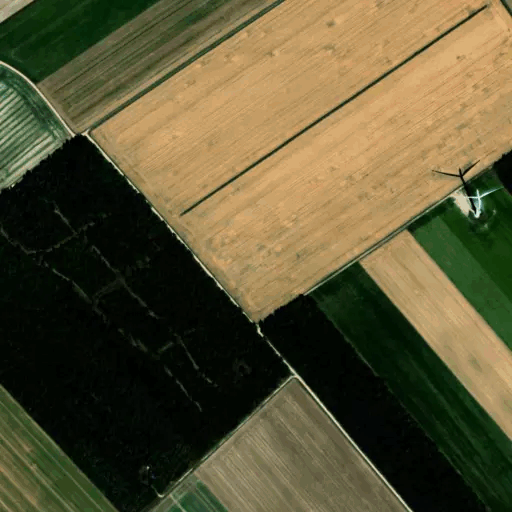wt: (429, 154, 506, 235)
